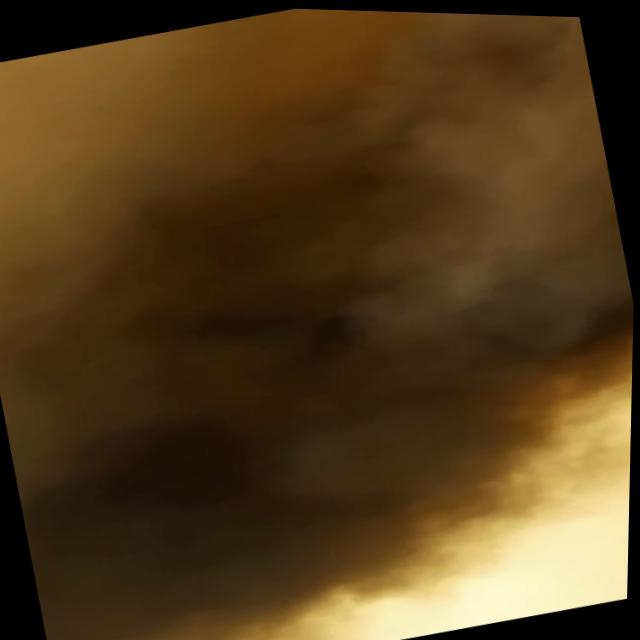smoke: (0, 213, 589, 640), (299, 18, 625, 294)
